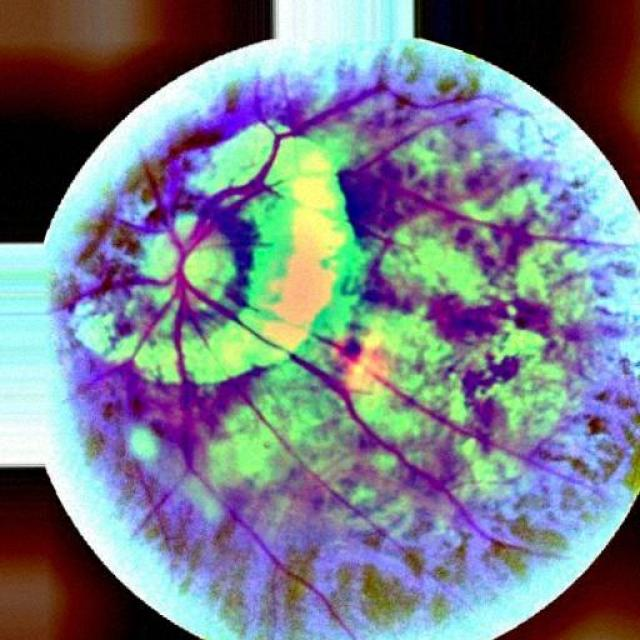Macula: (335, 317, 393, 404)
Nerves: (149, 181, 241, 288), (111, 288, 175, 370), (177, 291, 190, 477), (130, 274, 171, 288)
Optic Disk: (76, 135, 332, 380)
